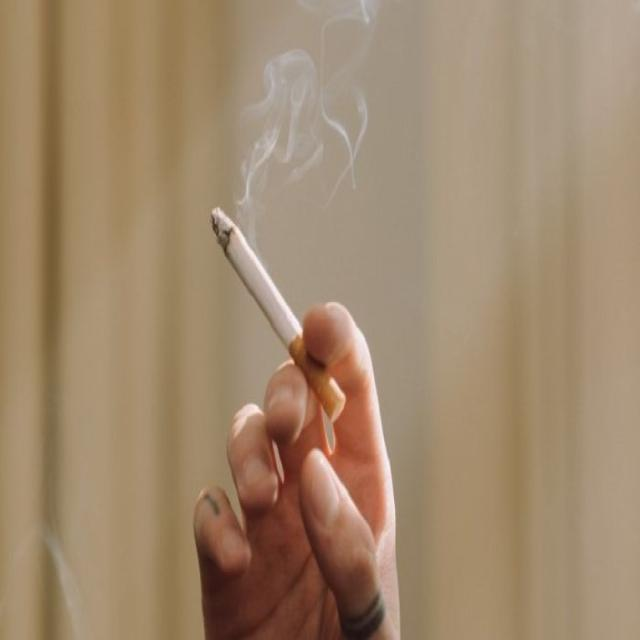rokok: (205, 204, 365, 428)
